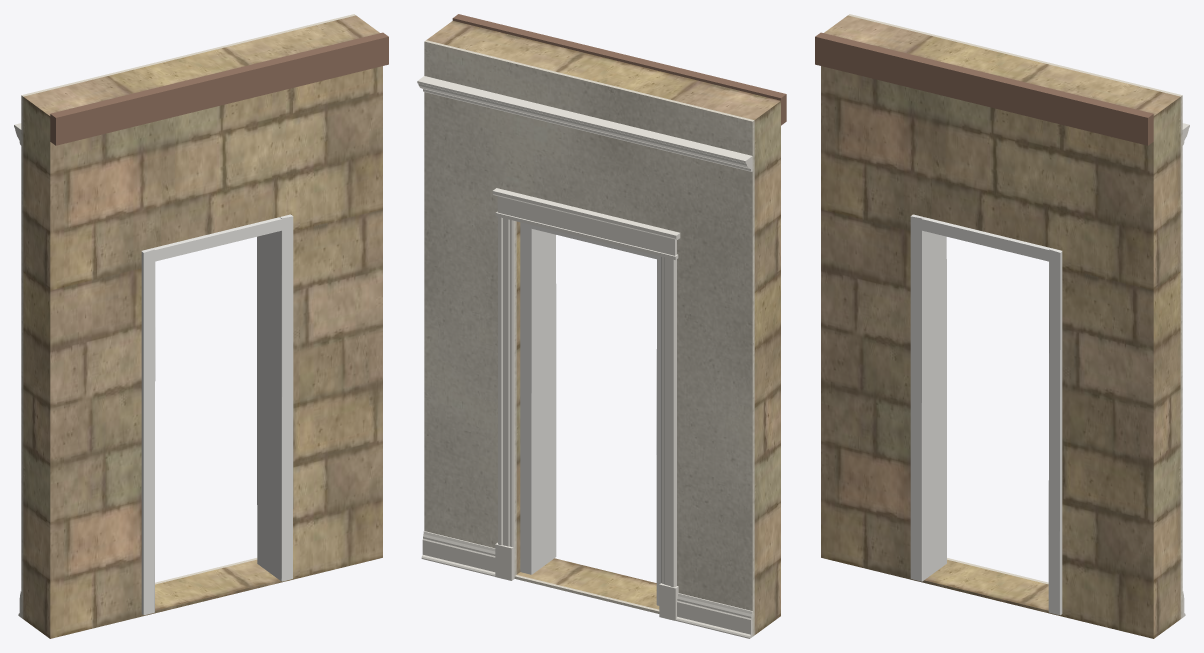
The model's file is wall_stone_door_inner.glb.
3 renders of one model, left to right at view 1: azimuth 30°, elevation 25°; view 2: azimuth 150°, elevation 25°; view 3: azimuth 330°, elevation 25°, orthographic.
Parts seen in each view (by area): view 1: wall_stone_door_inner_stone2, wall_stone_door_inner_frame, wall_stone_door_inner_timber, wall_stone_door_inner_plaster; view 2: wall_stone_door_inner_plaster, wall_stone_door_inner_stone2, molduras, wall_stone_door_inner_frame, wall_stone_door_inner_timber; view 3: wall_stone_door_inner_stone2, wall_stone_door_inner_frame, wall_stone_door_inner_timber, wall_stone_door_inner_plaster.
Boxes of the visible parts, <box> form: wall_stone_door_inner_stone2: <box>23,15,382,638</box>; wall_stone_door_inner_frame: <box>141,214,293,615</box>; wall_stone_door_inner_timber: <box>50,32,388,145</box>; wall_stone_door_inner_plaster: <box>21,14,355,618</box>; wall_stone_door_inner_plaster: <box>424,40,754,636</box>; wall_stone_door_inner_stone2: <box>426,21,780,634</box>; molduras: <box>417,76,752,638</box>; wall_stone_door_inner_frame: <box>520,222,661,605</box>; wall_stone_door_inner_timber: <box>452,14,786,125</box>; wall_stone_door_inner_stone2: <box>821,15,1180,638</box>; wall_stone_door_inner_frame: <box>910,214,1062,615</box>; wall_stone_door_inner_timber: <box>815,32,1153,145</box>; wall_stone_door_inner_plaster: <box>848,14,1182,618</box>.
Bounding box in the file's own units: 2 × 3.02 × 0.435.
5 materials, 2 textured.
